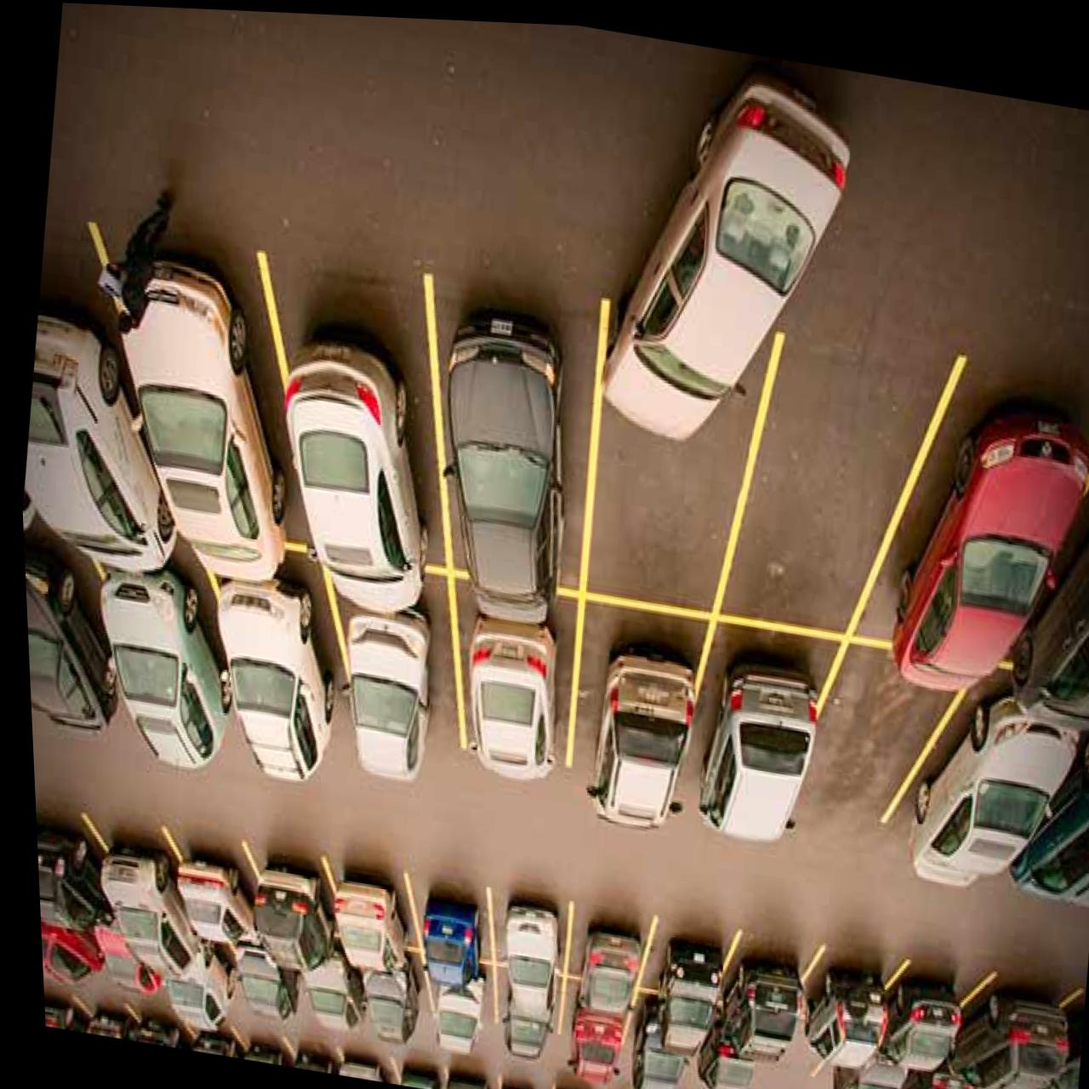cars: (86, 217, 323, 580), (11, 255, 209, 587), (880, 366, 1075, 703), (254, 269, 459, 588), (572, 312, 770, 621), (430, 286, 604, 596), (894, 661, 1089, 893), (661, 609, 837, 847), (442, 553, 601, 793), (202, 543, 361, 781), (321, 553, 479, 790), (554, 609, 721, 831), (94, 550, 245, 761), (24, 534, 128, 747), (934, 945, 1077, 1086), (81, 815, 216, 955), (863, 937, 977, 1066), (166, 833, 278, 955), (318, 853, 428, 977), (242, 845, 349, 967), (407, 859, 506, 983), (474, 877, 580, 986), (791, 937, 888, 1056), (36, 802, 124, 931), (717, 929, 814, 1034), (561, 896, 655, 1001), (638, 918, 726, 1029), (613, 999, 714, 1089), (548, 980, 641, 1069), (483, 967, 571, 1052), (163, 931, 247, 1015), (696, 1007, 777, 1089), (95, 917, 176, 999), (424, 967, 500, 1043), (361, 954, 430, 1036), (40, 898, 104, 984), (237, 941, 308, 1018), (811, 1039, 913, 1089), (304, 954, 368, 1028), (884, 1056, 986, 1089), (956, 1067, 1057, 1089)
empty: (717, 336, 924, 652), (776, 638, 953, 859), (752, 1017, 838, 1089)
